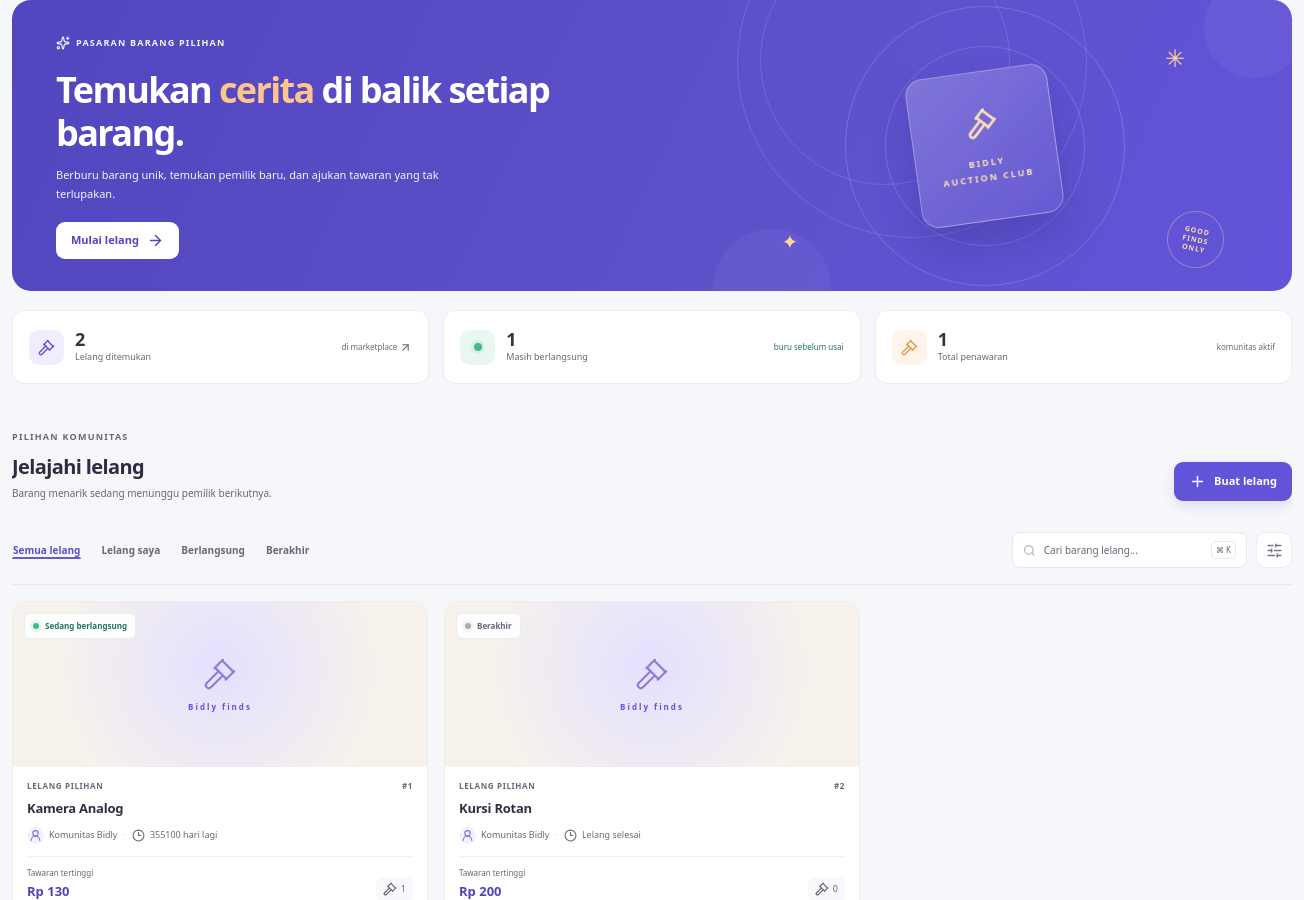
it: HomePage › filters titles and descriptions locally and shows the no-match message
The image size is (1304, 900).
Type "HANDMADE" into the field named "Cari barang lelang" at (1123, 550), box [1044,543,1203,558]
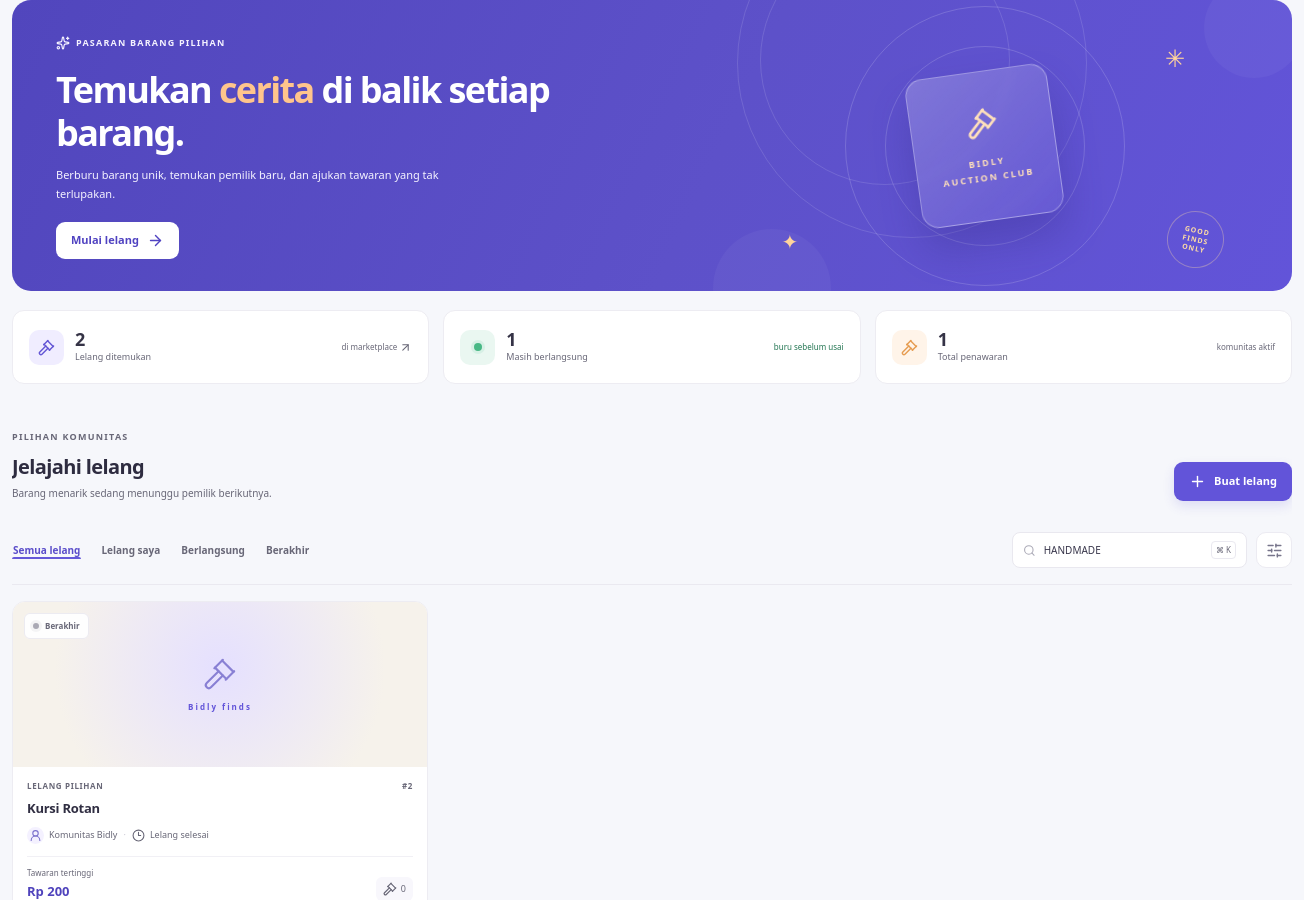
Expected: the text "Kursi Rotan" is shown, [27,799,100,817]
Expected: the text "Kamera Analog" is gone
Replace the text in the field named "Cari barang lelang" with "unlisted item" at (1123, 550), box [1044,543,1203,558]
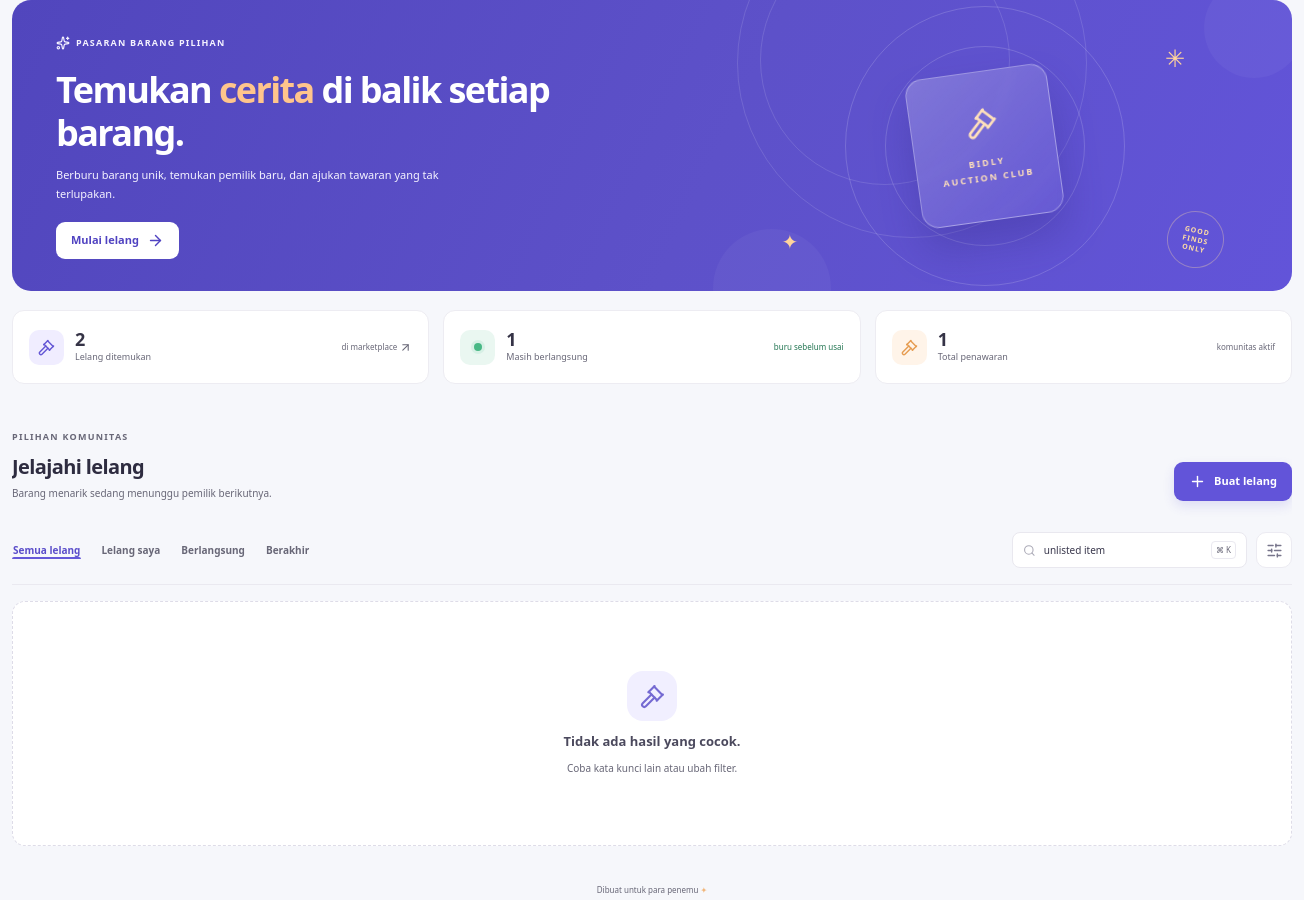
Expected: the text "Tidak ada hasil yang cocok." is shown, [563,732,740,752]
